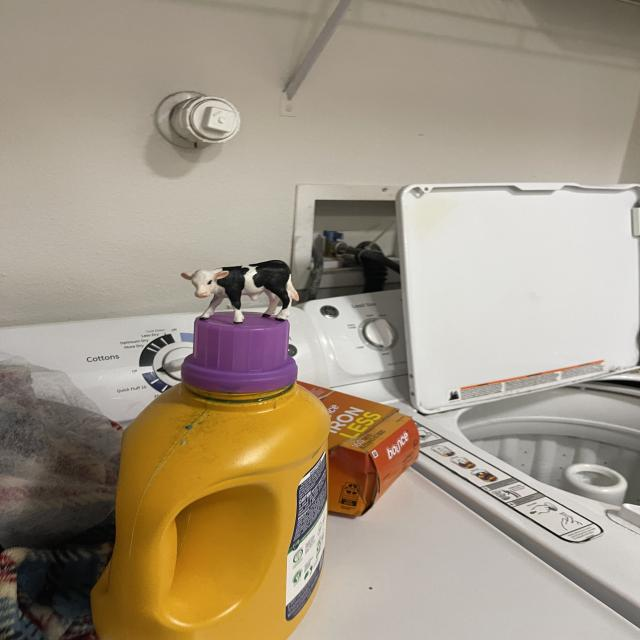cow: (181, 259, 301, 328)
